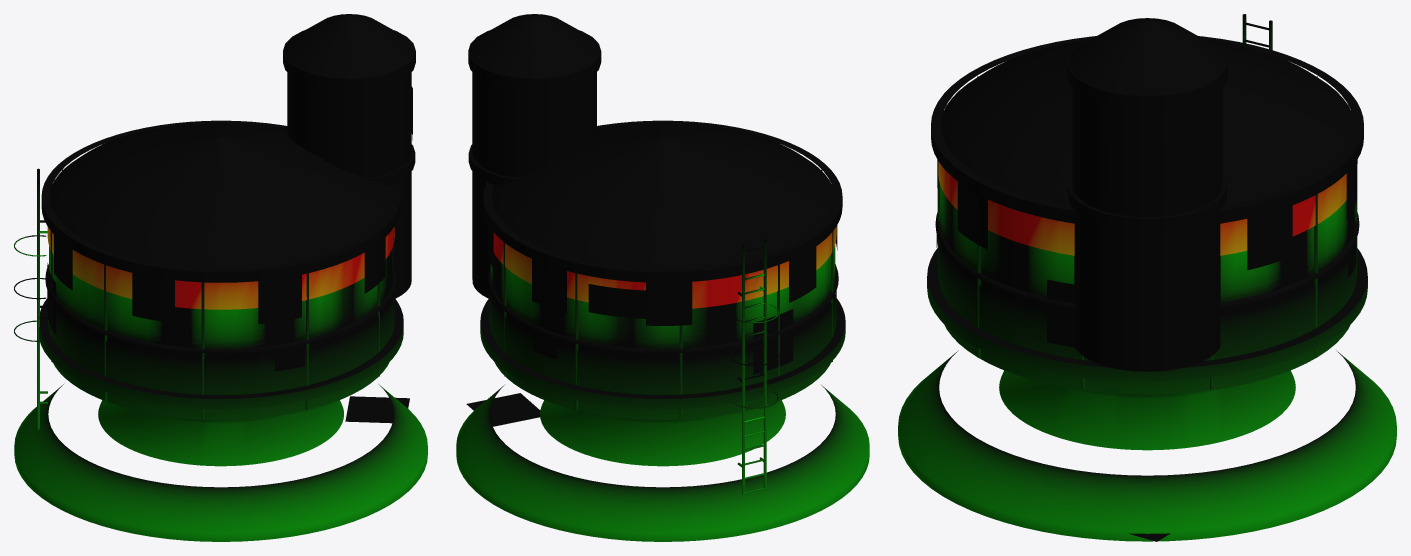
Rendered from smallfueltank.glb.
3 renders of one model, left to right at view 1: azimuth 30°, elevation 25°; view 2: azimuth 150°, elevation 25°; view 3: azimuth 270°, elevation 25°, orthographic. The views are drawn at different scales.
Visible parts, largest first — view 1: lod0; view 2: lod0; view 3: lod0.
Boxes of the visible parts, x1=… form: lod0: x1=14, y1=14, x2=427, y2=541; lod0: x1=456, y1=14, x2=869, y2=541; lod0: x1=898, y1=14, x2=1396, y2=541.
Size of what is drawn, in the model's own units: 8.2 by 8.6 by 7.9.
